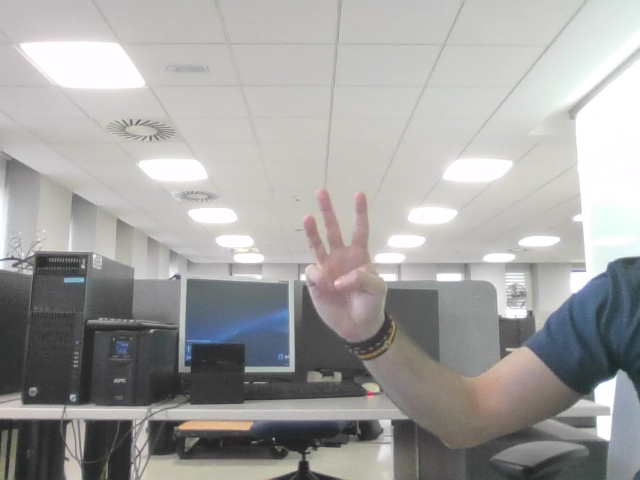3Dedos: (313, 200, 375, 305)
